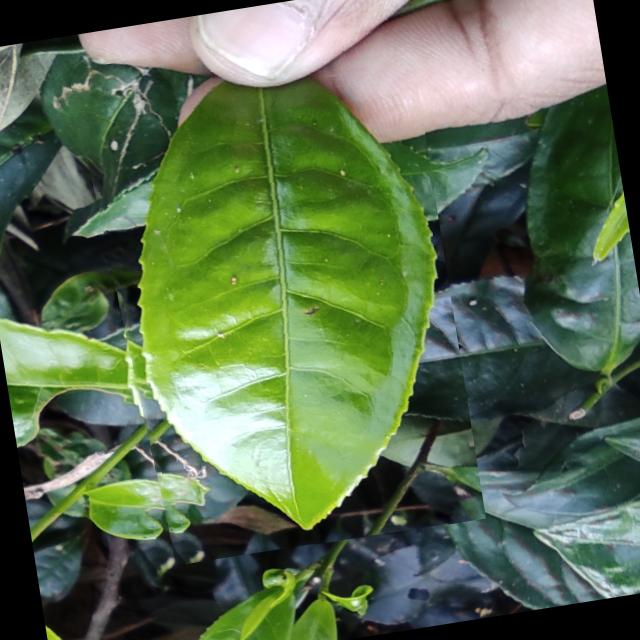Category C(4-7 days): (67, 18, 485, 572)
